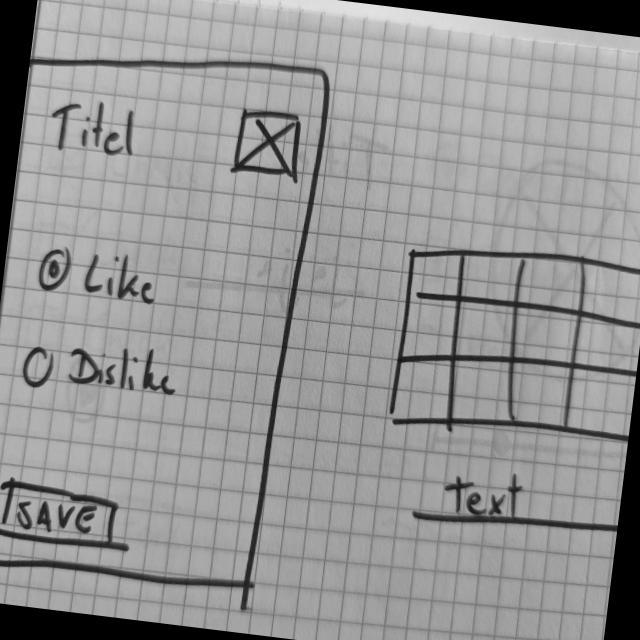button: (1, 476, 125, 554)
container: (1, 31, 337, 608)
image: (231, 106, 310, 184)
input: (408, 456, 624, 547)
label: (44, 92, 144, 165)
radio: (20, 330, 183, 409), (33, 241, 169, 312)
table: (386, 231, 640, 456)
